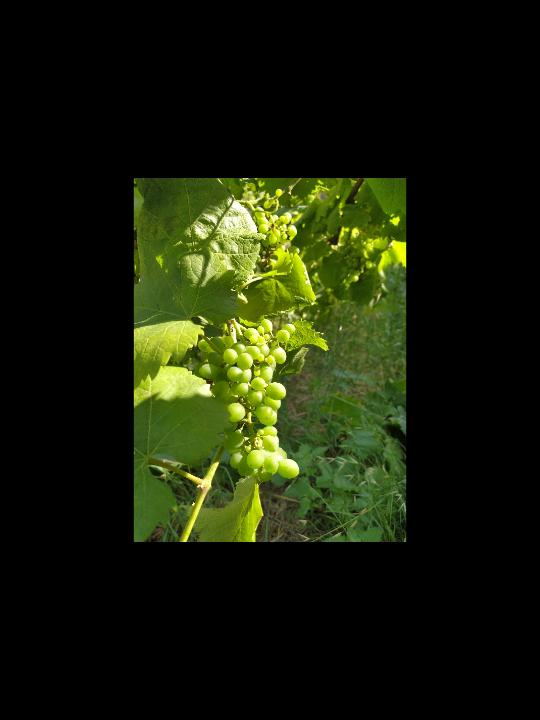grape: (197, 316, 302, 481)
